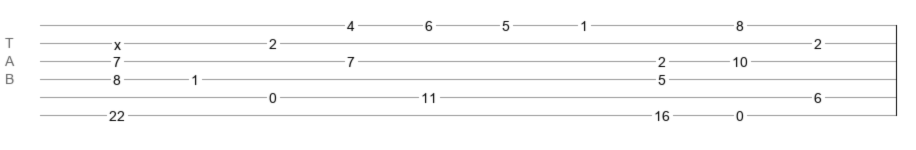0: (269, 90, 277, 100), (736, 108, 744, 118)
1: (191, 72, 199, 82), (580, 18, 588, 28)
10: (732, 54, 748, 64)
11: (421, 90, 437, 100)
16: (654, 108, 670, 118)
2: (269, 36, 277, 46), (658, 54, 666, 64), (814, 36, 822, 46)
22: (109, 108, 125, 118)
4: (347, 18, 355, 28)
5: (502, 18, 510, 28), (658, 72, 666, 82)
6: (425, 18, 433, 28), (814, 90, 822, 100)
7: (113, 54, 121, 64), (347, 54, 355, 64)
8: (113, 72, 121, 82), (736, 18, 744, 28)
x: (114, 37, 121, 45)
